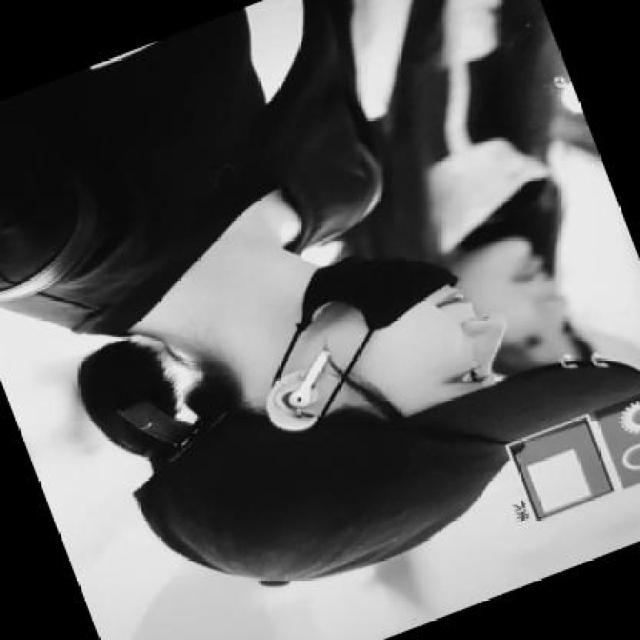earphone: (296, 344, 338, 417)
